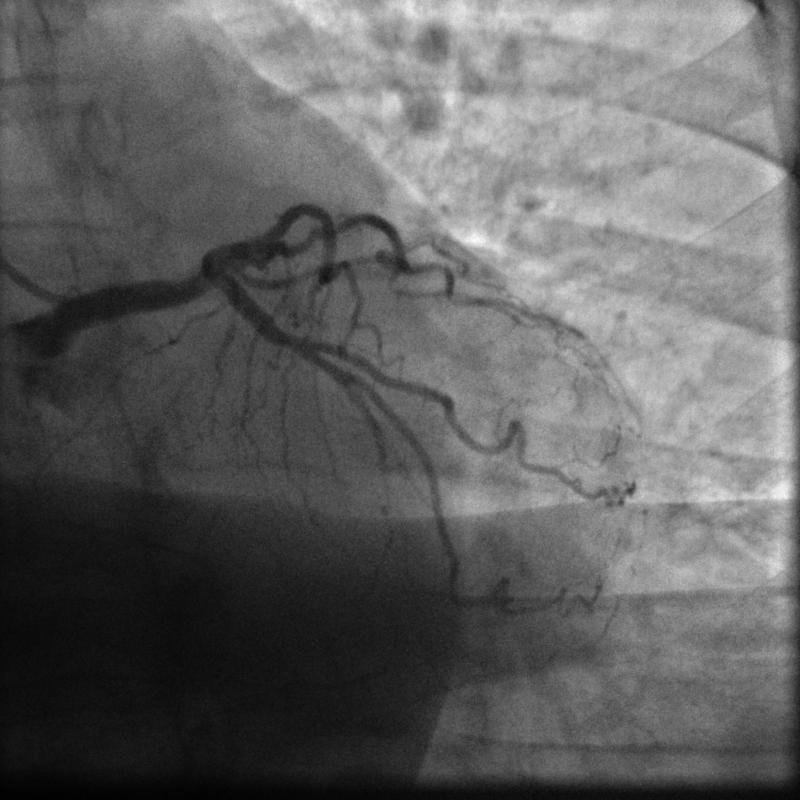Stenosis: (271, 314, 305, 359)
